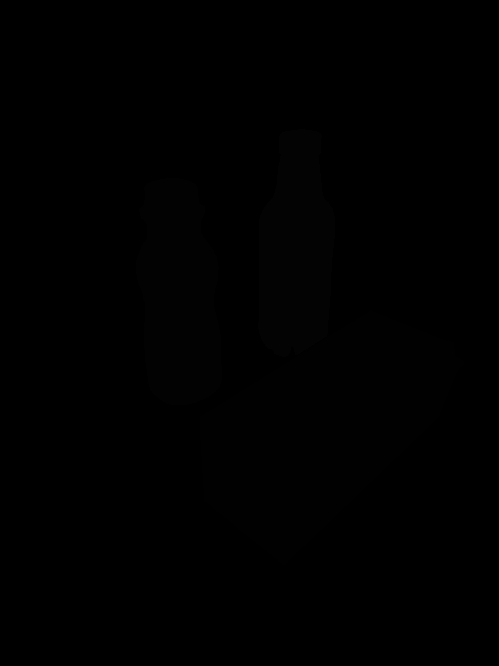carton: (195, 307, 465, 568)
milk_bottle: (134, 176, 226, 409)
water_bottle: (256, 127, 337, 361)
